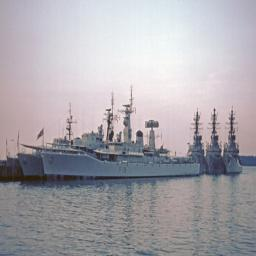Fragata: (38, 86, 202, 187)
